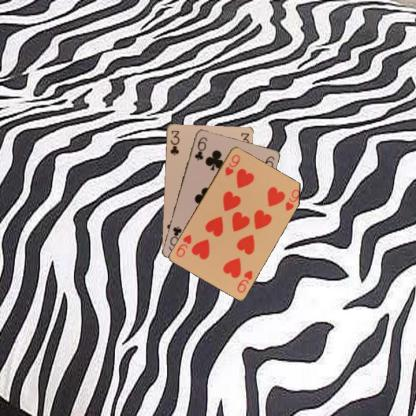3c: (168, 128, 180, 156)
6c: (192, 134, 209, 162)
9h: (223, 151, 242, 177), (235, 267, 254, 293)
